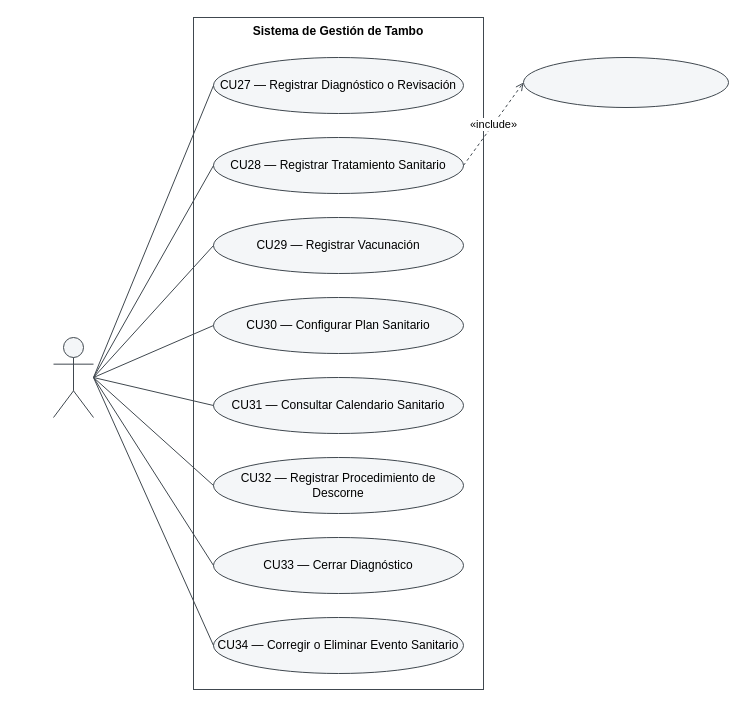
The diagram is 746 pixels wide and 707 high, and some of its shapes have lost their labels. Each missing label, with the centre of its shape:
"Descontar Insumo de Stock" belongs at point (625, 82).
"Encargada del sector" belongs at point (73, 377).
